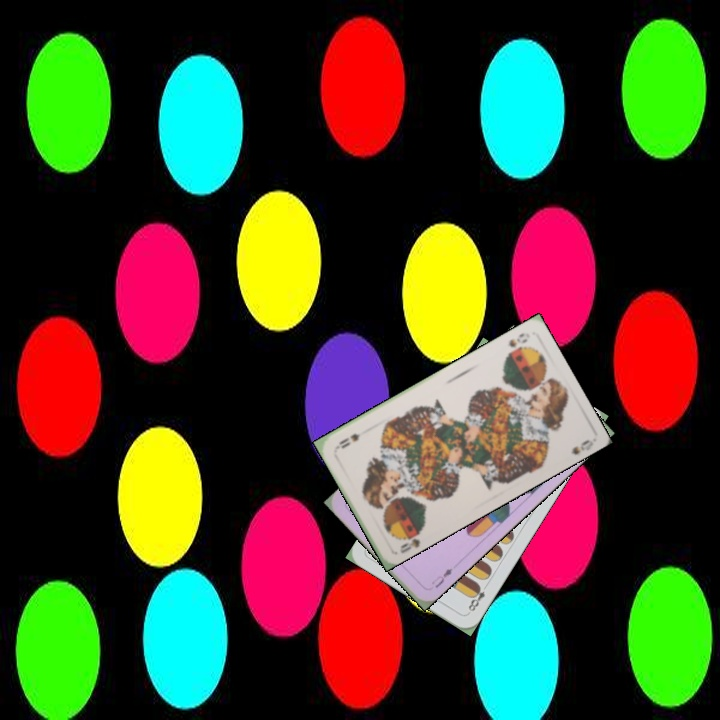E8: (464, 580, 491, 616)
EU: (427, 564, 455, 591)
SO: (396, 523, 425, 556), (504, 329, 530, 357)
